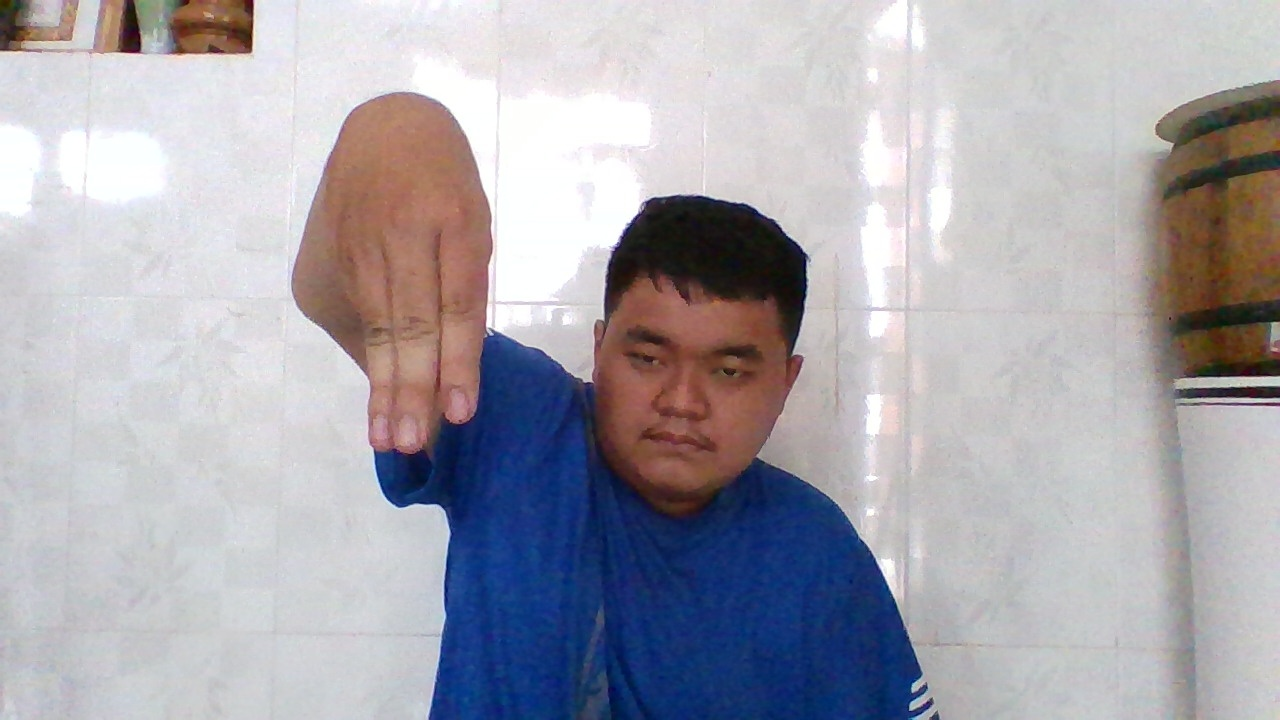M: (300, 106, 494, 464)
